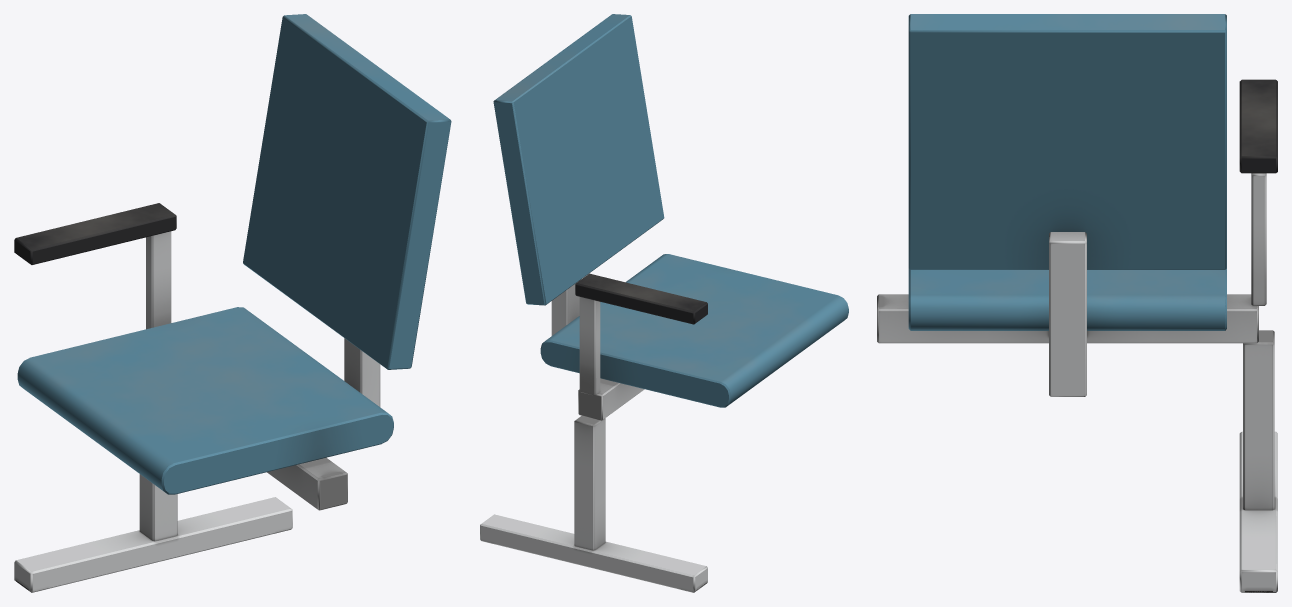
The model's file is Seat_Row.fbx.
The picture shows the model from 3 angles, left to right: view 1: azimuth 30°, elevation 25°; view 2: azimuth 150°, elevation 25°; view 3: azimuth 270°, elevation 25°; orthographic projection. The views are drawn at different scales.
Parts seen in each view (by area): view 1: Seat_Row_LOD0; view 2: Seat_Row_LOD0; view 3: Seat_Row_LOD0.
Boxes of the visible parts, x1,y1,x2,y2 form: Seat_Row_LOD0: [14, 14, 451, 592]; Seat_Row_LOD0: [480, 14, 848, 592]; Seat_Row_LOD0: [877, 14, 1277, 592].
Size of what is drawn, in the model's own units: 0.574 by 0.9903 by 0.63.
Materials: 1 (1 with a texture image).
